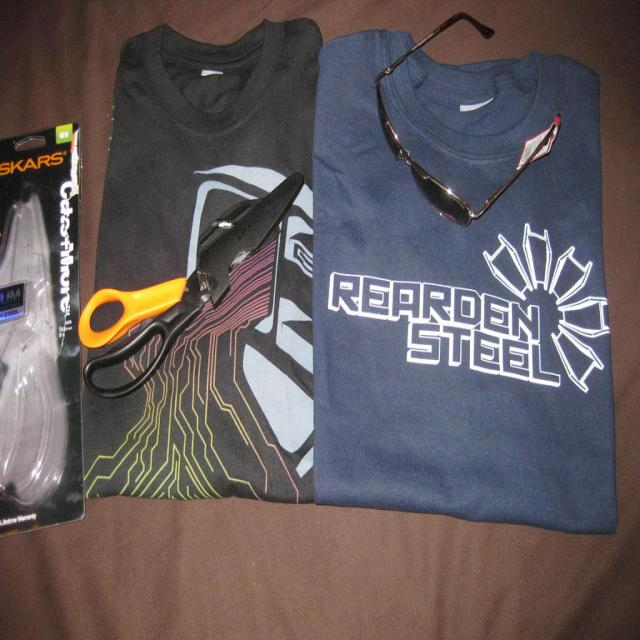scissors: (77, 171, 304, 398)
